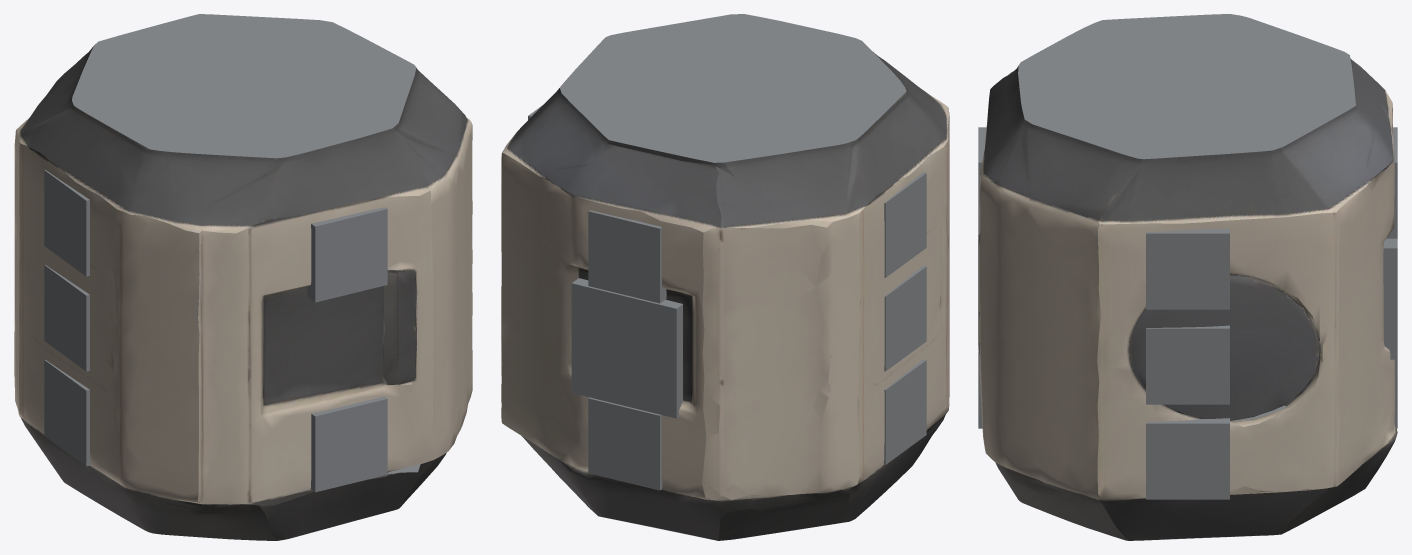
The model's file is small_hub.glb.
3 renders of one model, left to right at view 1: azimuth 30°, elevation 25°; view 2: azimuth 150°, elevation 25°; view 3: azimuth 270°, elevation 25°, orthographic.
Parts seen in each view (by area): view 1: part; view 2: part; view 3: part.
Part boxes in pixels (x1,y1,x2,y2): part: (14,14,472,540); part: (501,14,949,540); part: (978,14,1397,540).
Bounding box in the file's own units: 3 × 3 × 3.
Materials: 2 (1 with a texture image).
